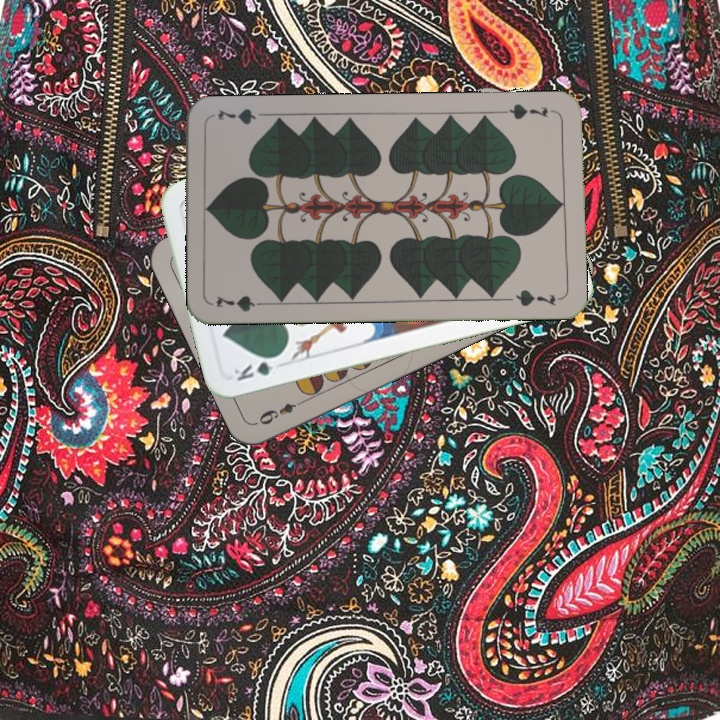E9: (252, 396, 307, 428)
G7: (212, 291, 271, 314), (499, 99, 550, 121)
GK: (229, 351, 287, 384)
